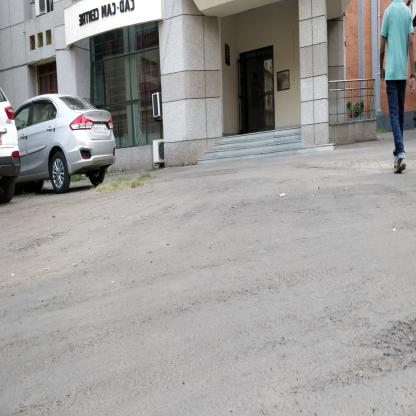stairs: (222, 136, 297, 161)
